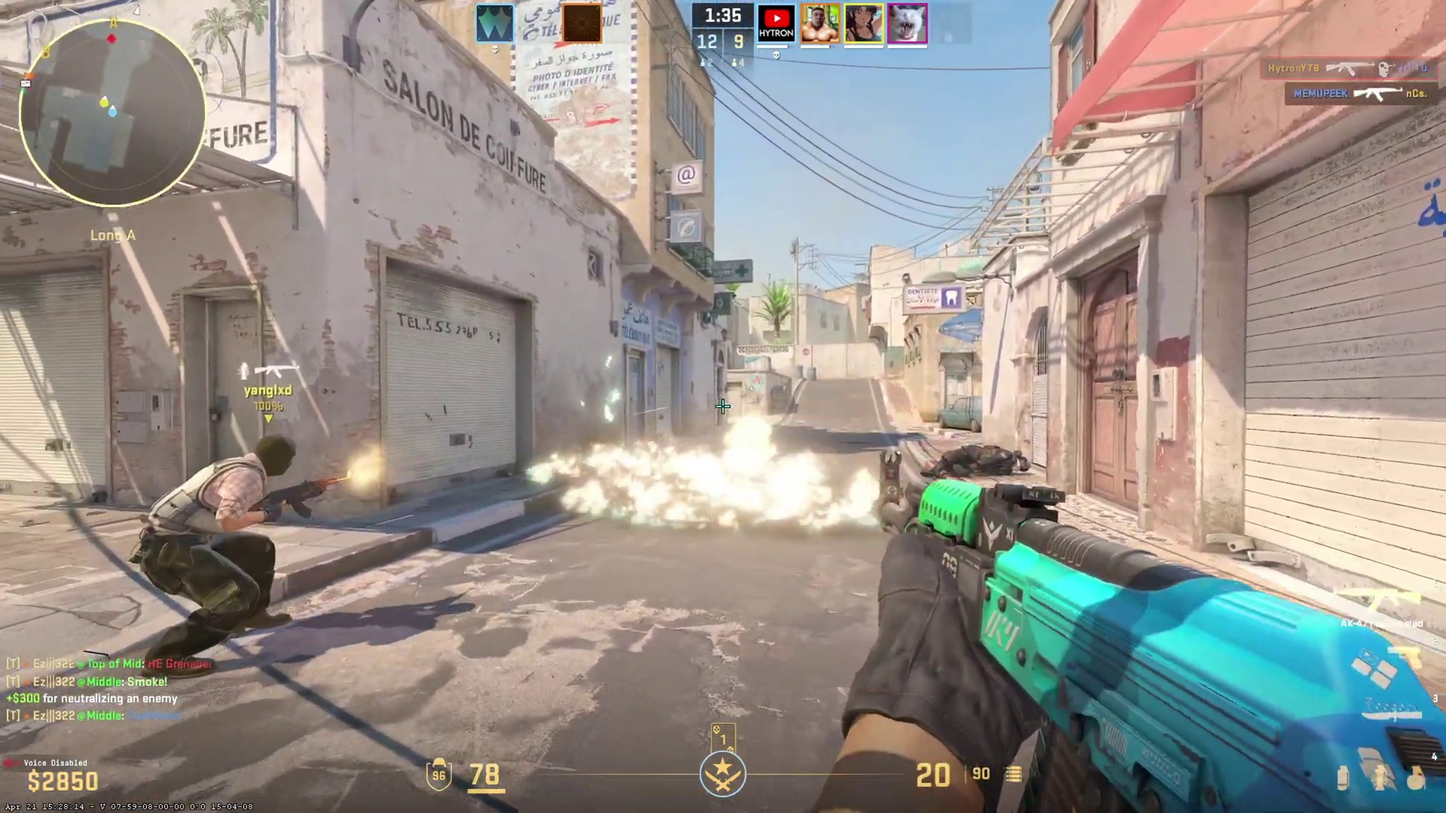Terrorist: (138, 435, 295, 681)
